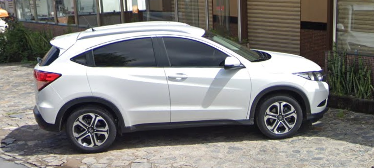car: (30, 10, 331, 158)
